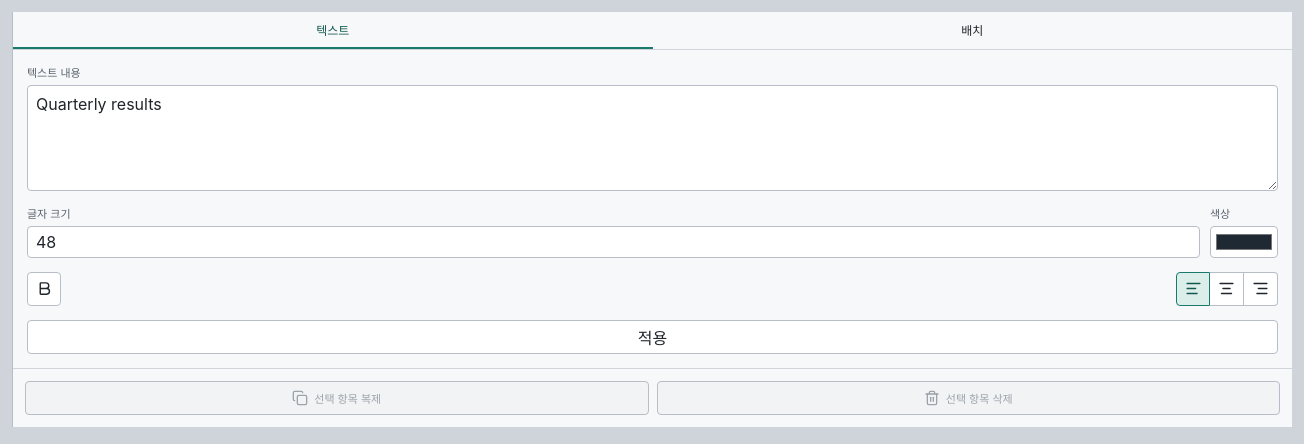
Test: Inspector › rejects invalid font size draft 0
Replace the text in the number field labelled "글자 크기" with "0": (614, 242) [27,226,1200,258]
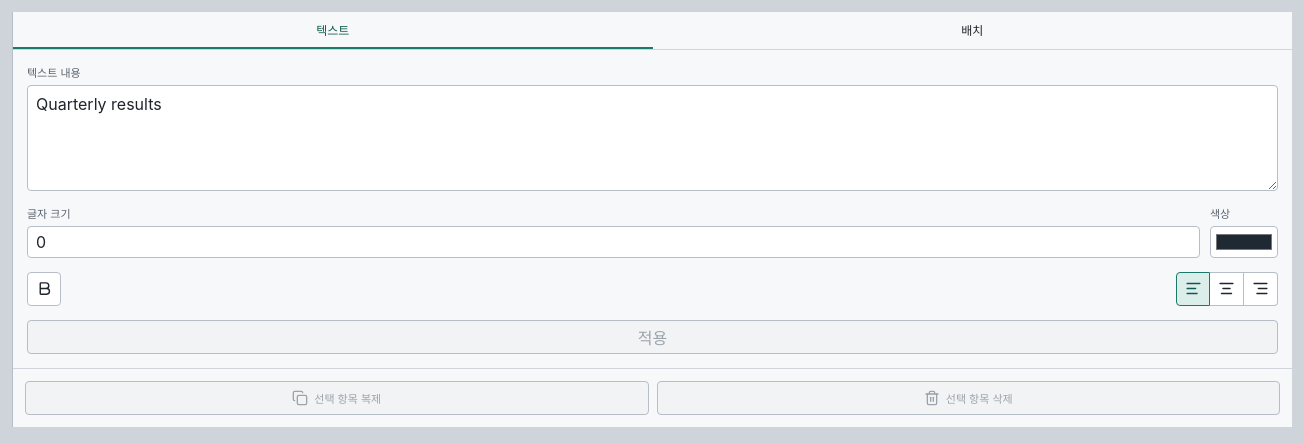
Now the button "적용" is disabled, box [27,320,1278,354]
